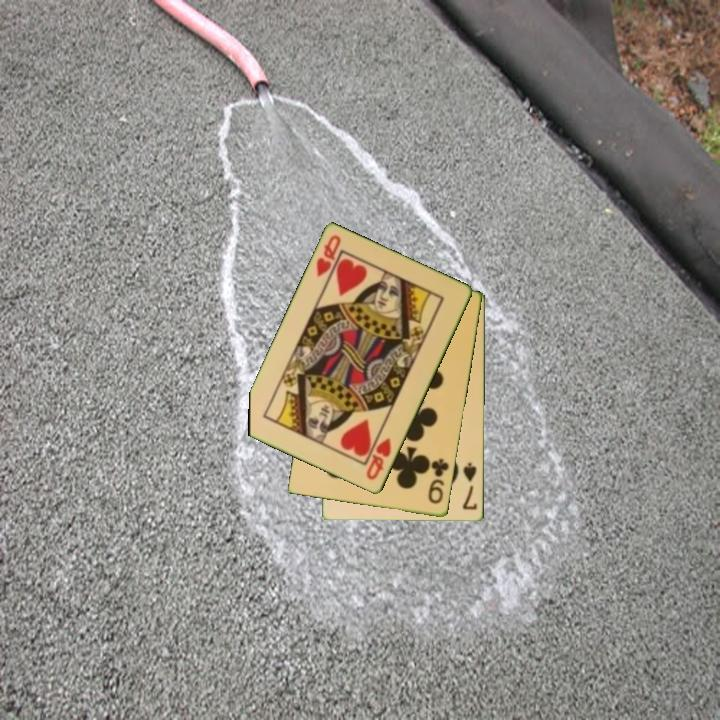7s: (459, 459, 480, 513)
9c: (425, 455, 452, 507)
Qh: (313, 232, 344, 281), (363, 435, 394, 483)
